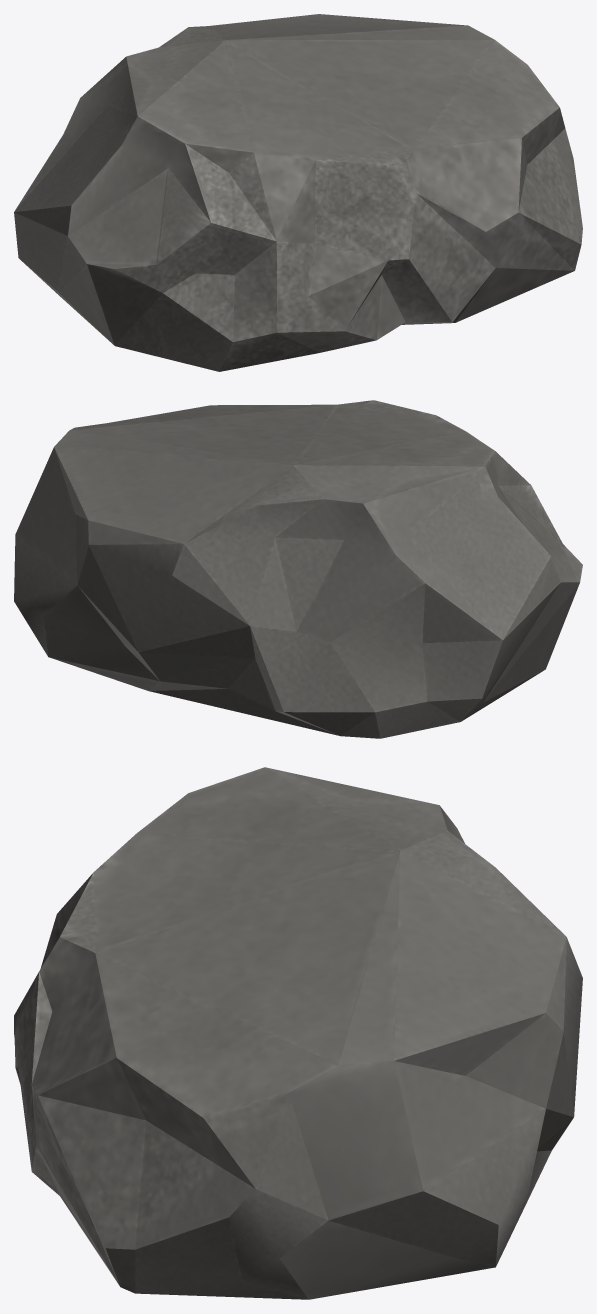
3 renders of one model, top to bottom at view 1: azimuth 30°, elevation 25°; view 2: azimuth 150°, elevation 25°; view 3: azimuth 270°, elevation 25°, orthographic. The views are drawn at different scales.
Visible parts, largest first — view 1: output_unwrapped; view 2: output_unwrapped; view 3: output_unwrapped.
Boxes of the visible parts, x1,y1,x2,y2 form: output_unwrapped: [14, 14, 582, 371]; output_unwrapped: [14, 400, 582, 738]; output_unwrapped: [14, 767, 582, 1299].
Size of the model in its own units: 2 by 0.8281 by 1.5.
Materials: 1 (1 with a texture image).
